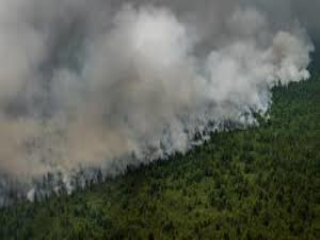smoke: (3, 27, 200, 187), (207, 11, 311, 129)
